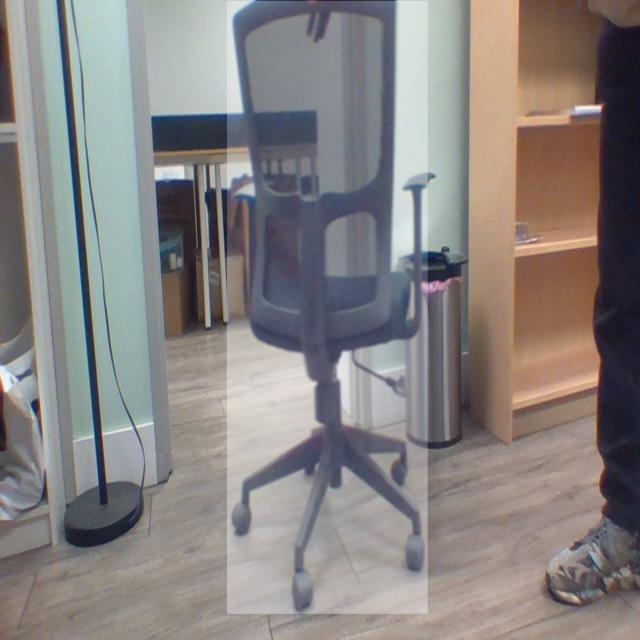black-chair: (227, 1, 429, 615)
